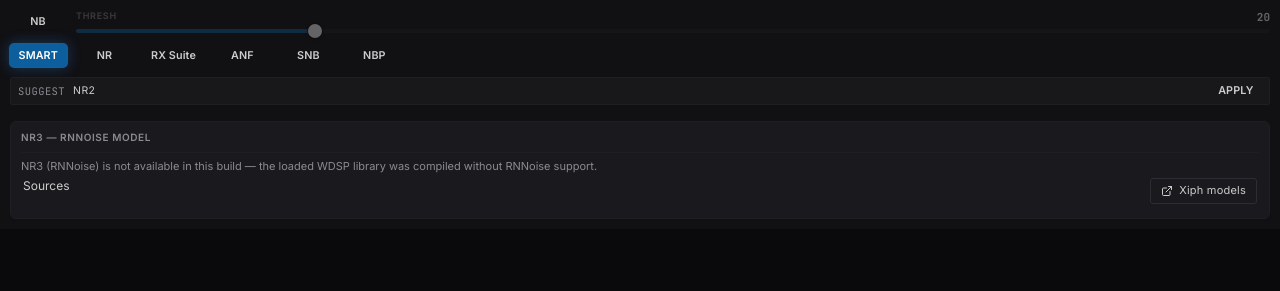
Test: DspPanel SMART control › applies a suggested Smart NR profile from the status row
This screenshot has width=1280, height=291.
Step 1. Click the button "APPLY" → [1236, 91], box [1210, 81, 1262, 101]
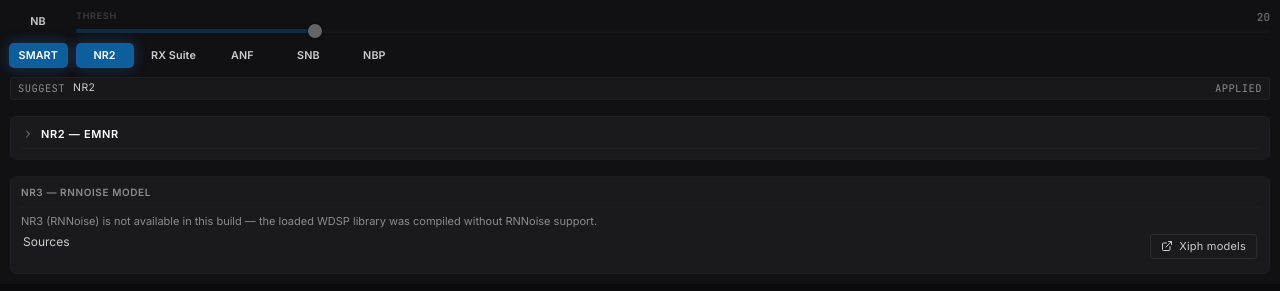
Expected: the text "APPLIED" is shown, [1215, 81, 1262, 96]
